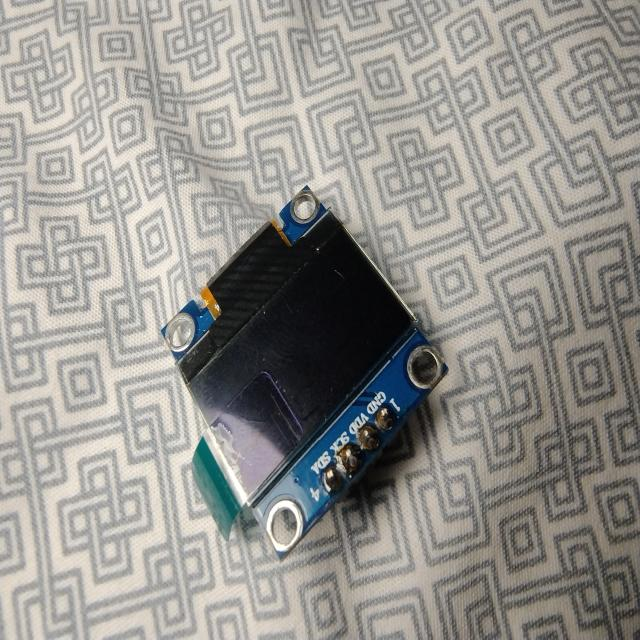oled: (151, 172, 458, 578)
